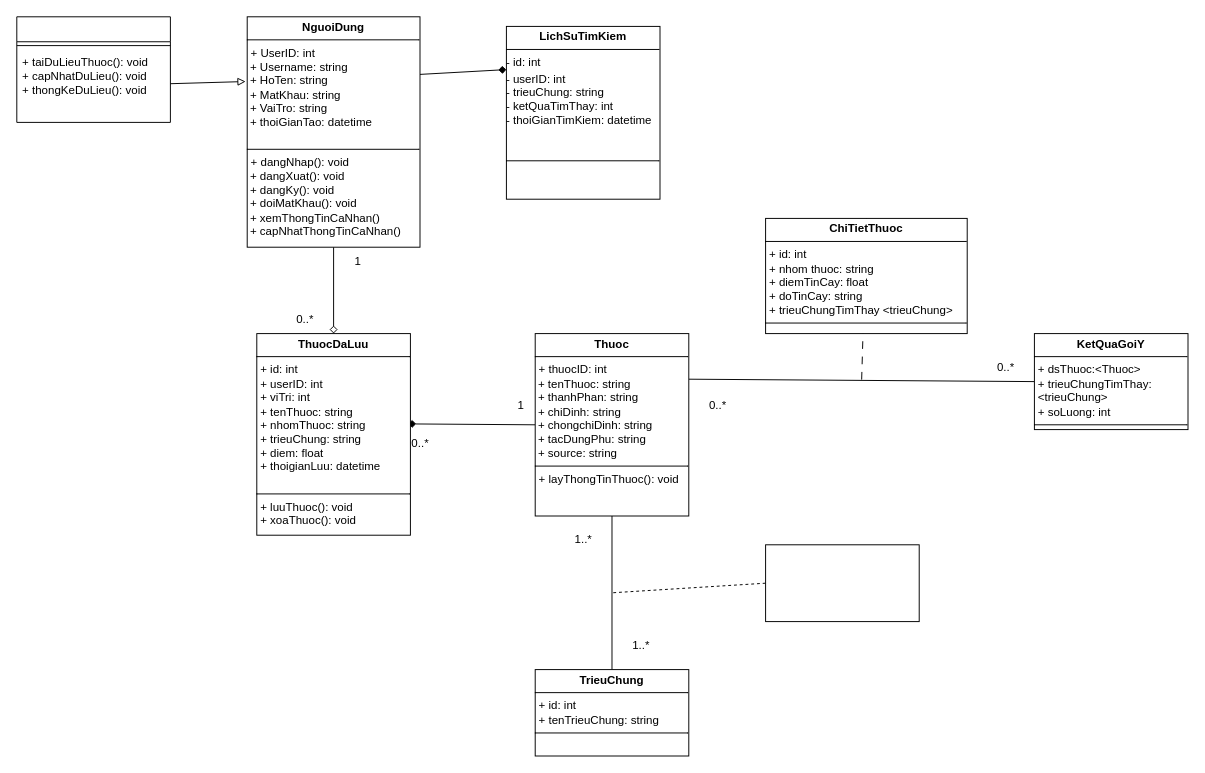
The diagram is 1205 pixels wide and 773 high, and some of its shapes have lost their labels. The box of each missing label's shape, as (x1, y1, x2, y2) in pixels:
ChiTietTrieuChung + id: int + doTinCay: string: (765, 544, 919, 622)
QuanTriVien: (16, 16, 170, 122)
